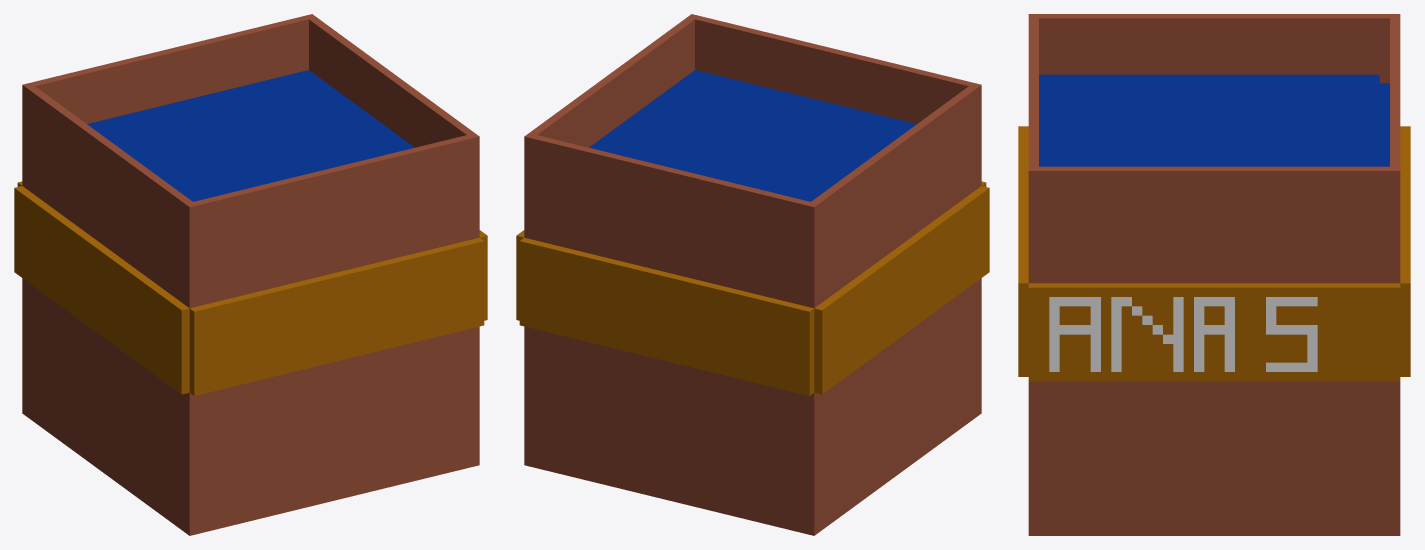
3 views of the same model, side by side, from view 1: azimuth 30°, elevation 25°; view 2: azimuth 150°, elevation 25°; view 3: azimuth 270°, elevation 25° (orthographic). The views are drawn at different scales.
Size of the model in its own units: 3.8 by 3.9 by 3.8.
Materials: 1 (1 with a texture image).
